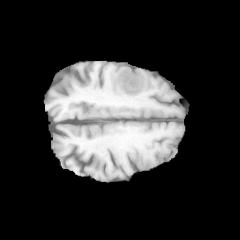glioma: (113, 66, 147, 96)
